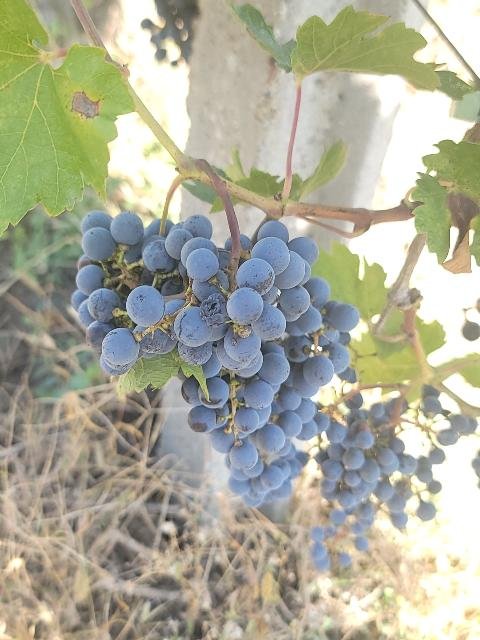grapes: (178, 221, 359, 508), (71, 211, 229, 376), (310, 394, 445, 571), (420, 385, 478, 435)
